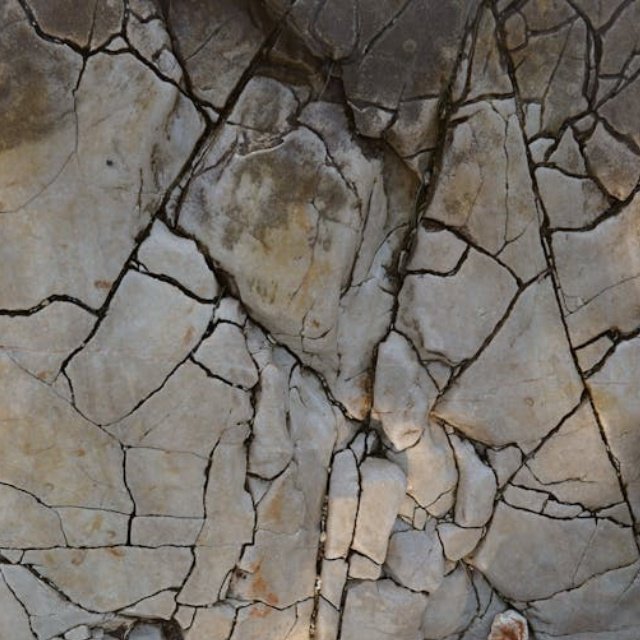细微裂纹: (106, 7, 260, 275), (284, 320, 384, 640), (266, 438, 392, 640)
网状裂隙: (77, 153, 350, 640)
